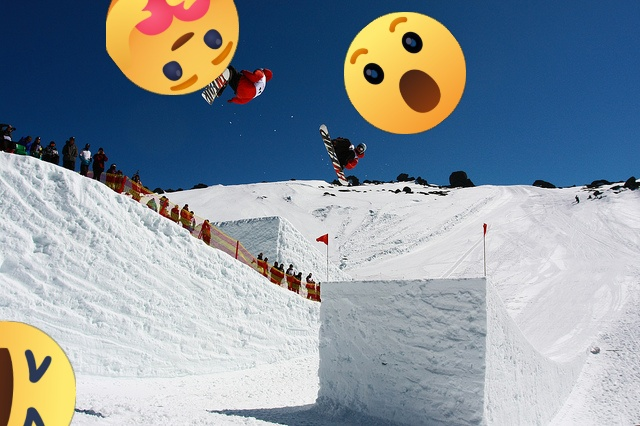care: (106, 0, 239, 95)
haha: (0, 321, 76, 426)
wow: (344, 12, 466, 134)
